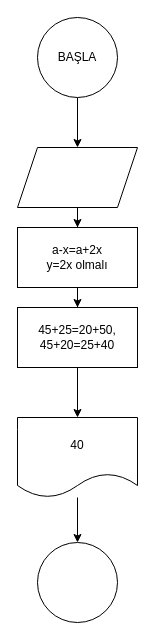
The diagram is 155 pixels wide and 640 high, and some of its shapes have lost their labels. The shapes that lost their labels are listed below. From the top down, each one's centre as x and y in pixels, then its label:
At (77,177): "eşit kollu terazi, ağırlıklar denge".
At (77,582): "DUR".
